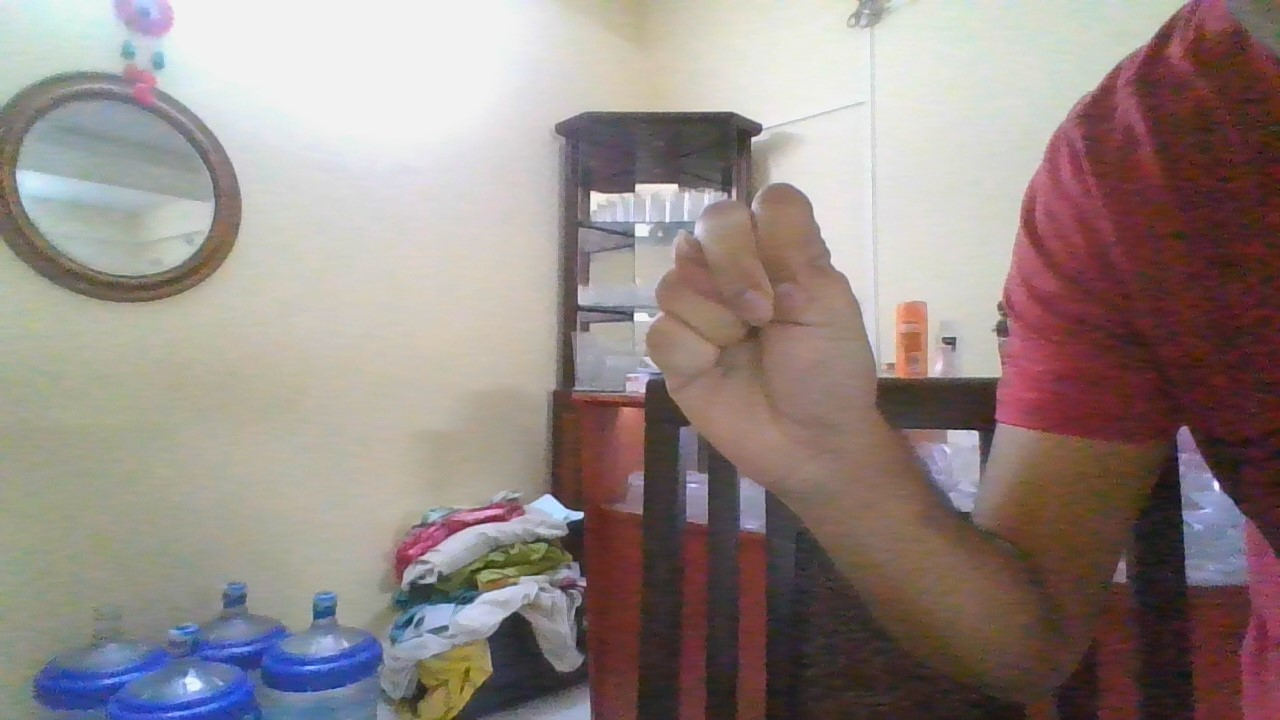n: (644, 182, 882, 484)
